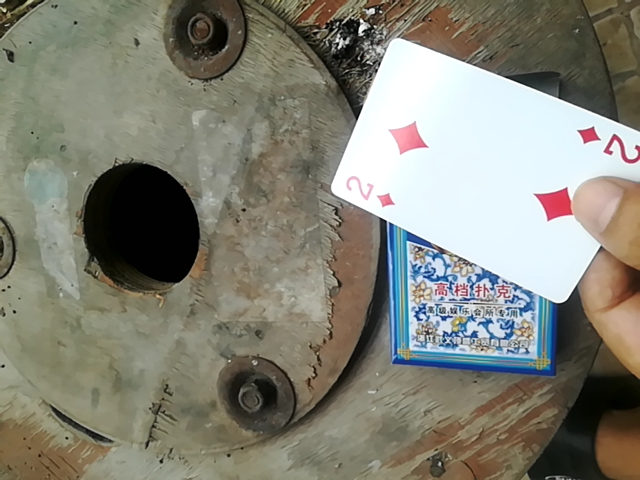fk 2: (321, 36, 638, 308)
